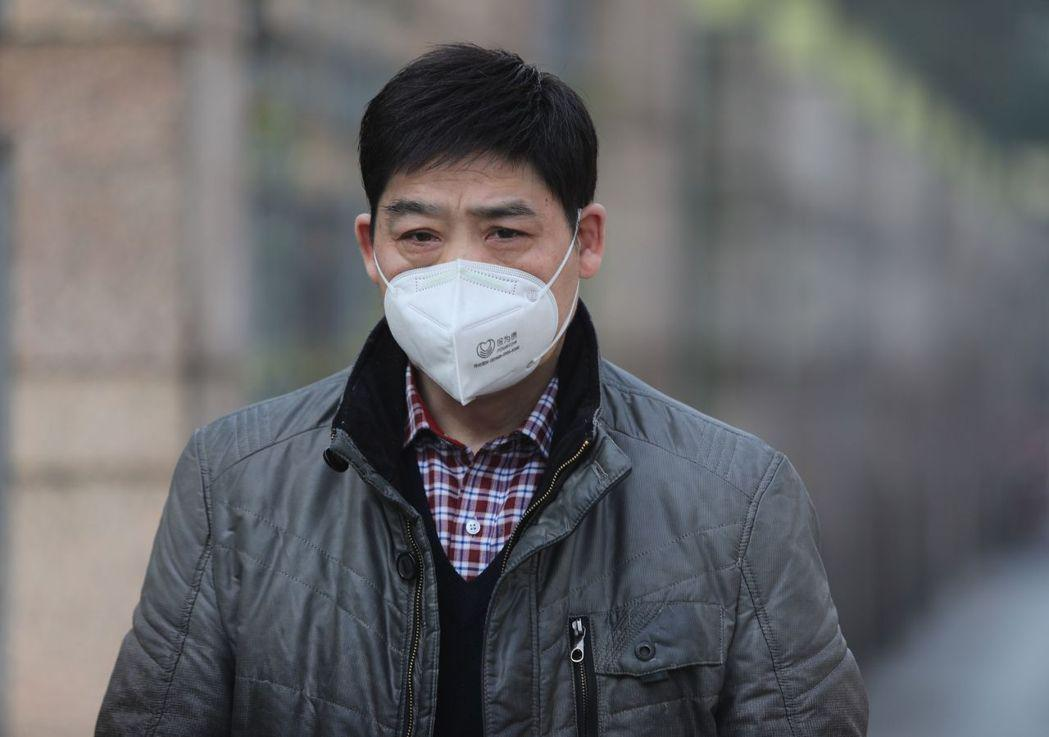mask: (373, 195, 580, 406)
